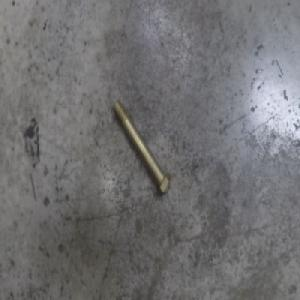Bolt: (112, 97, 172, 197)
